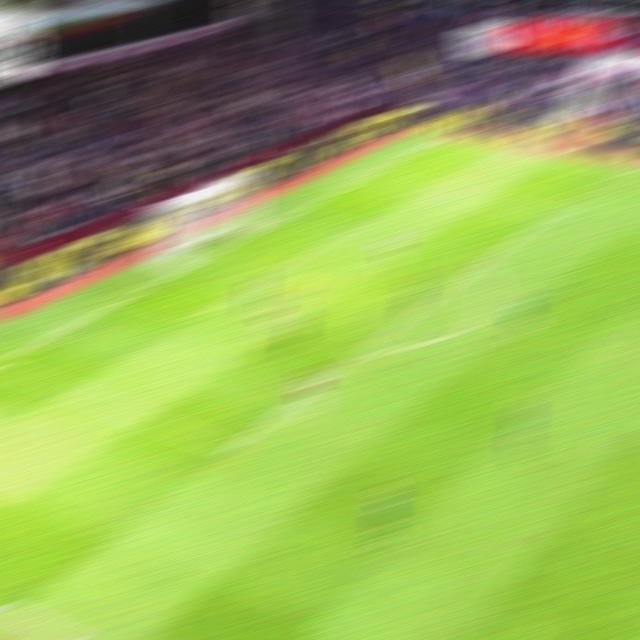bigarea_bottom_inner: (215, 437, 248, 459)
bigarea_top_inner: (538, 204, 568, 222)
bigarea_top_outter: (354, 170, 382, 182)
bottom_arc_area_intersection: (350, 341, 380, 359)
corner: (430, 131, 460, 141)
smallarea_bottom_inner: (181, 305, 213, 325)
smallarea_bottom_outter: (117, 287, 149, 303)
smallarea_top_inner: (337, 221, 367, 237)
smallarea_top_outter: (281, 206, 309, 221)
top_arc_area_intersection: (462, 260, 492, 274)
